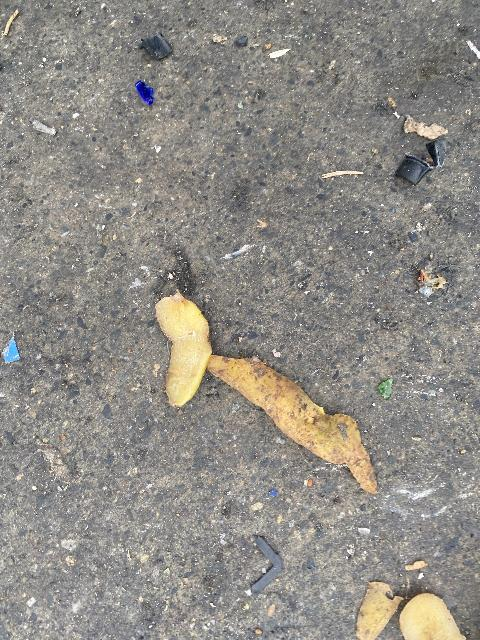Kagit: (0, 319, 29, 371), (29, 122, 61, 138)
Organik: (208, 341, 378, 502), (154, 279, 216, 413), (351, 583, 406, 640), (381, 378, 398, 400)
Plastik: (240, 536, 291, 595), (400, 153, 430, 186), (134, 80, 160, 112), (431, 143, 459, 164)
